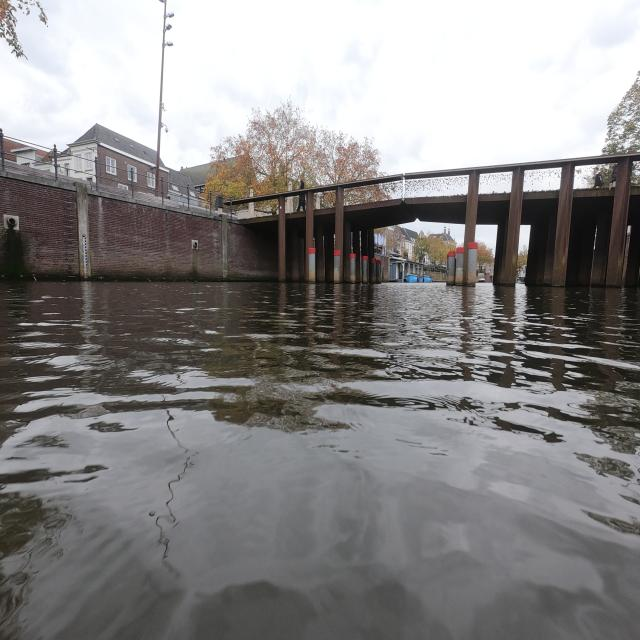sky: (160, 6, 638, 166), (8, 4, 164, 148)
tree: (204, 90, 384, 194)
wall: (0, 164, 274, 278)
water: (6, 290, 638, 634)
